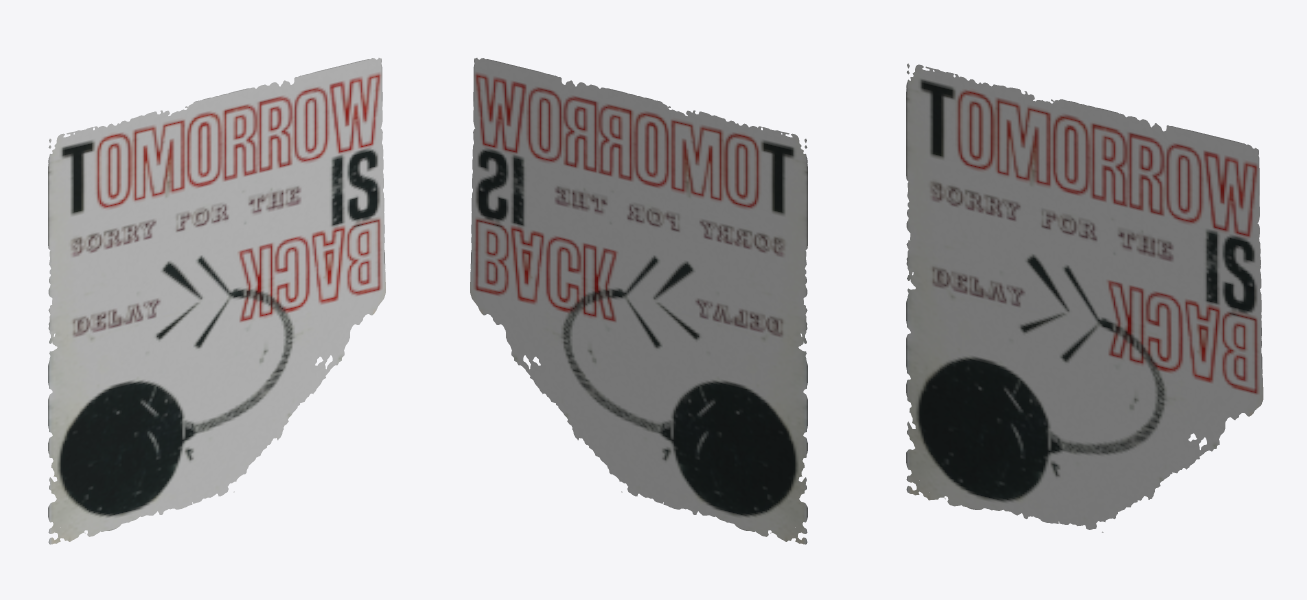
File: Sticker_34.fbx
3 renders of one model, left to right at view 1: azimuth 30°, elevation 25°; view 2: azimuth 150°, elevation 25°; view 3: azimuth 330°, elevation 25°, orthographic. The views are drawn at different scales.
Parts seen in each view (by area): view 1: Sticker_34; view 2: Sticker_34; view 3: Sticker_34.
Boxes of the visible parts, x1,y1,x2,y2 form: Sticker_34: (48,58,385,544); Sticker_34: (470,58,807,544); Sticker_34: (906,63,1263,532).
Bounding box in the file's own units: 0.3558 × 0.4106 × 1.79e-08.
